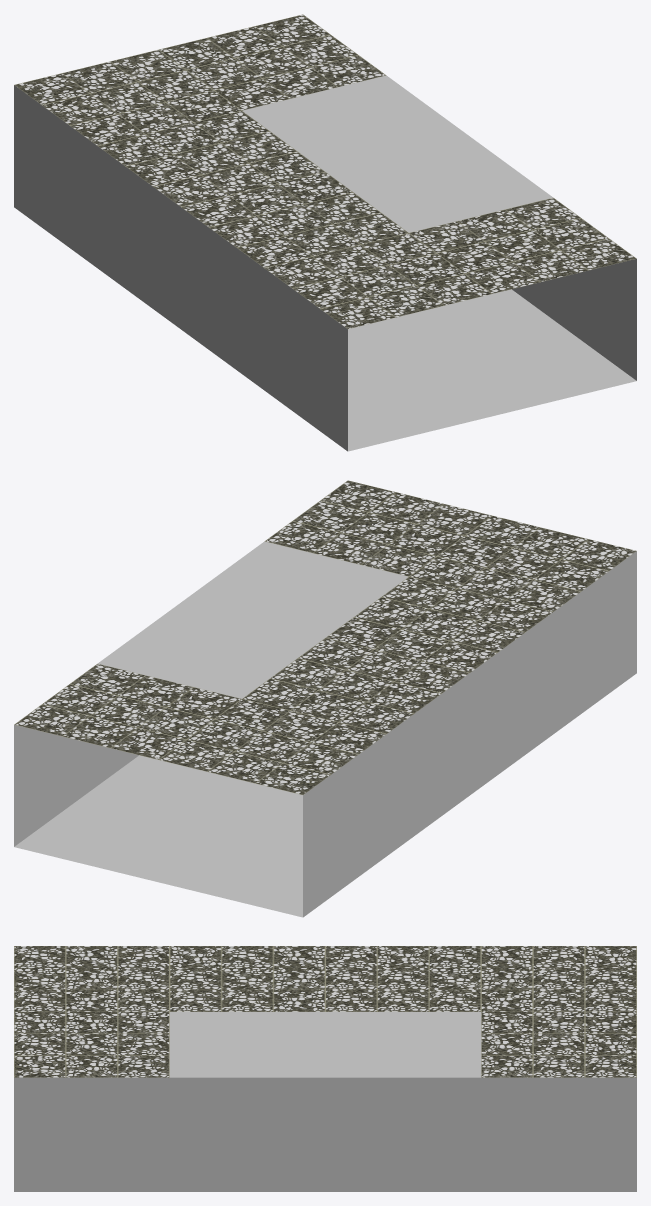
Rendered from Floor_SE.fbx.
3 views of the same model, one above another, from view 1: azimuth 30°, elevation 25°; view 2: azimuth 150°, elevation 25°; view 3: azimuth 270°, elevation 25° (orthographic). The views are drawn at different scales.
Parts seen in each view (by area): view 1: Floor_SE; view 2: Floor_SE; view 3: Floor_SE.
Part boxes in pixels (x1,y1,x2,y2): Floor_SE: [14, 14, 636, 451]; Floor_SE: [14, 480, 636, 917]; Floor_SE: [14, 946, 636, 1191].
Bounding box in the file's own units: 12 × 4.85 × 24.
